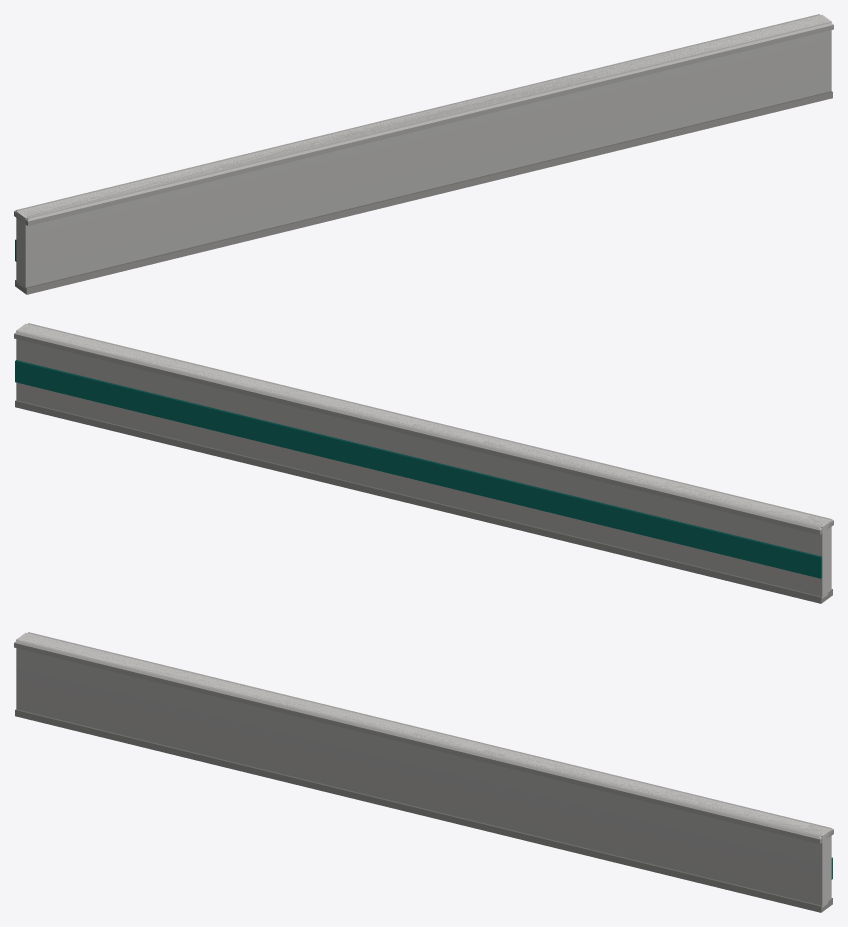
Rendered from ceiling_edge_01.glb.
The picture shows the model from 3 angles, top to bottom: view 1: azimuth 30°, elevation 25°; view 2: azimuth 150°, elevation 25°; view 3: azimuth 330°, elevation 25°; orthographic projection.
Visible parts, largest first — view 1: ceiling_edge_01_mesh; view 2: ceiling_edge_01_mesh, ceiling_edge_01_accent; view 3: ceiling_edge_01_mesh.
Part boxes in pixels (x1,y1,x2,y2): ceiling_edge_01_mesh: (14,14,833,294); ceiling_edge_01_mesh: (14,323,833,603); ceiling_edge_01_accent: (15,360,822,578); ceiling_edge_01_mesh: (14,632,833,912).
Size of the model in its own units: 4 by 0.36 by 0.12.
1 material, 1 textured.
